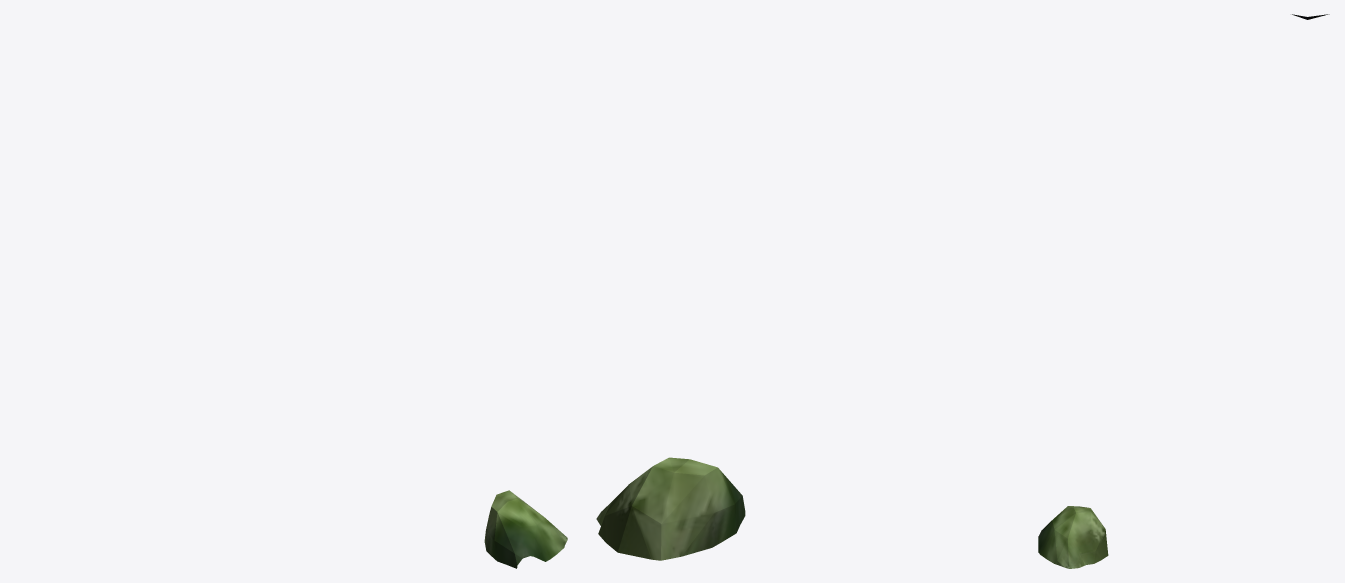
3 renders of one model, left to right at view 1: azimuth 30°, elevation 25°; view 2: azimuth 150°, elevation 25°; view 3: azimuth 270°, elevation 25°, orthographic. The views are drawn at different scales.
Size of the model in its own units: 2.41 by 2.95 by 1.94.
1 material, 1 textured.
